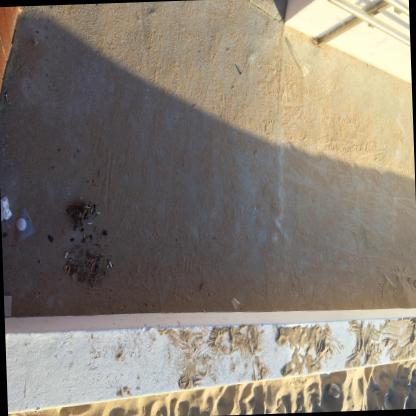Paper: (0, 196, 11, 222), (90, 261, 95, 266), (118, 305, 123, 310), (63, 252, 67, 258), (108, 260, 111, 267), (4, 94, 7, 101), (64, 265, 66, 272), (71, 274, 73, 280), (67, 266, 69, 272), (105, 265, 108, 269), (63, 265, 65, 269), (202, 311, 206, 312)
Plastic: (1, 208, 34, 251), (231, 298, 239, 309), (301, 66, 308, 77)
